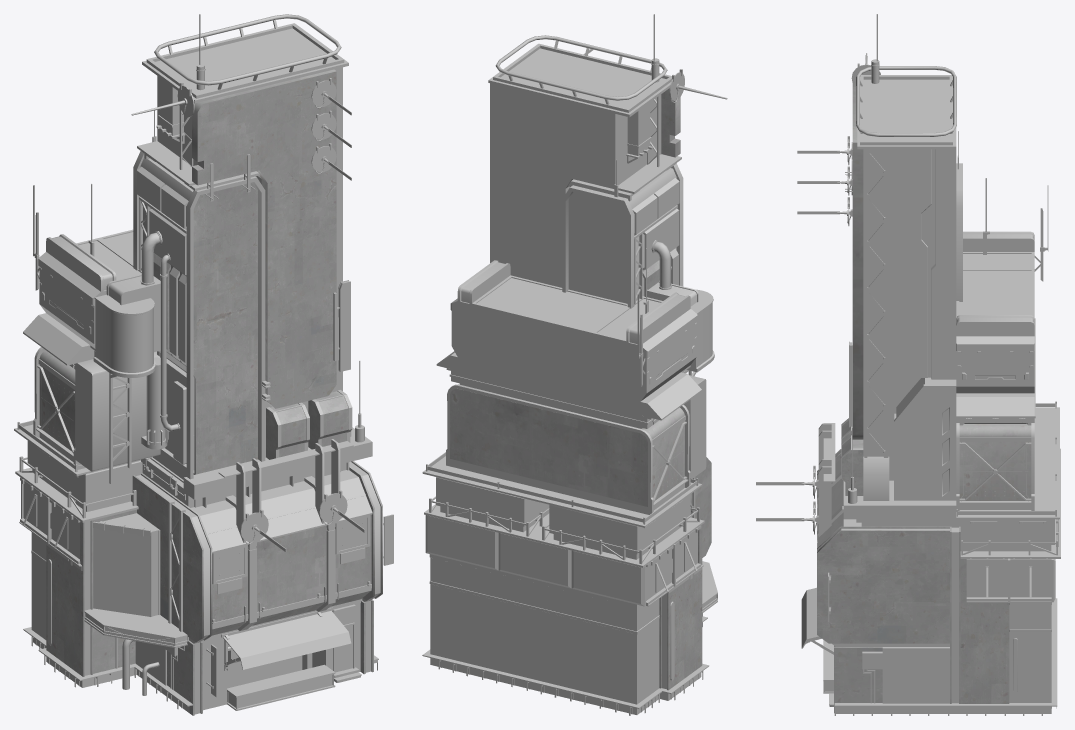
The model's file is SM_Cit_Bui_25.fbx.
3 renders of one model, left to right at view 1: azimuth 30°, elevation 25°; view 2: azimuth 150°, elevation 25°; view 3: azimuth 270°, elevation 25°, orthographic. The views are drawn at different scales.
Visible parts, largest first — view 1: SM_Cit_Bui_25BL.mo, SM_Cit_Bui_25AL.mo; view 2: SM_Cit_Bui_25BL.mo, SM_Cit_Bui_25AL.mo; view 3: SM_Cit_Bui_25BL.mo, SM_Cit_Bui_25AL.mo.
Boxes of the visible parts, left/top/right/bottom form: SM_Cit_Bui_25BL.mo: left=14, top=14, right=393, bottom=715; SM_Cit_Bui_25AL.mo: left=15, top=14, right=383, bottom=714; SM_Cit_Bui_25BL.mo: left=422, top=14, right=727, bottom=715; SM_Cit_Bui_25AL.mo: left=422, top=35, right=717, bottom=708; SM_Cit_Bui_25BL.mo: left=756, top=14, right=1059, bottom=715; SM_Cit_Bui_25AL.mo: left=801, top=66, right=1060, bottom=706.
Bounding box in the file's own units: 19.44 × 47.78 × 20.91.
